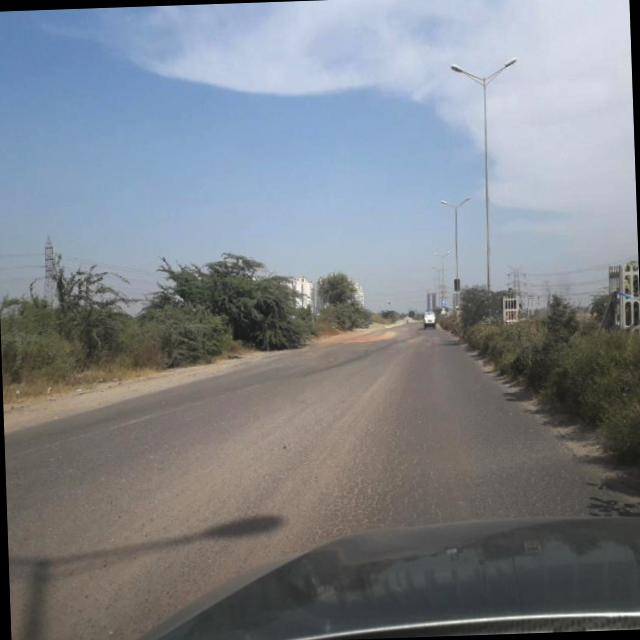crack: (210, 360, 432, 532), (460, 397, 592, 518)
